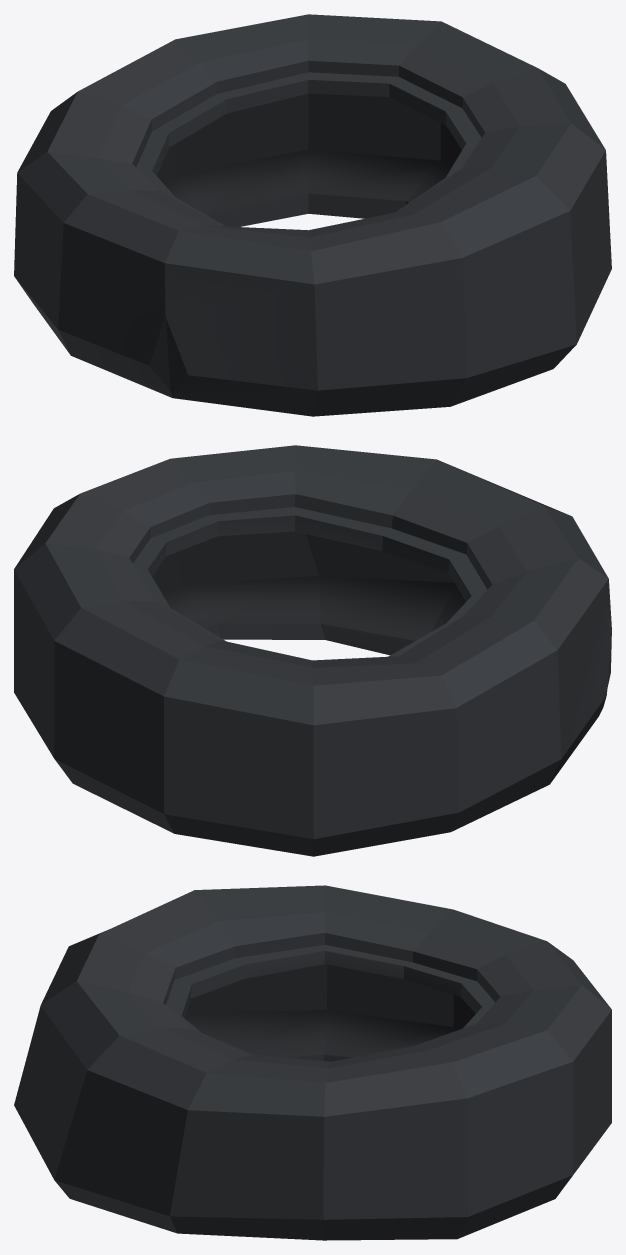
Rendered from SM_Prop_TyreSingle_01.fbx.
3 renders of one model, top to bottom at view 1: azimuth 30°, elevation 25°; view 2: azimuth 150°, elevation 25°; view 3: azimuth 270°, elevation 25°, orthographic. The views are drawn at different scales.
Visible parts, largest first — view 1: SM_Prop_TyreSingle_01; view 2: SM_Prop_TyreSingle_01; view 3: SM_Prop_TyreSingle_01.
Boxes of the visible parts, x1=… form: SM_Prop_TyreSingle_01: x1=14, y1=14, x2=611, y2=416; SM_Prop_TyreSingle_01: x1=14, y1=445, x2=611, y2=856; SM_Prop_TyreSingle_01: x1=14, y1=885, x2=611, y2=1240.
Size of the model in its own units: 70.95 by 26.42 by 74.93.
